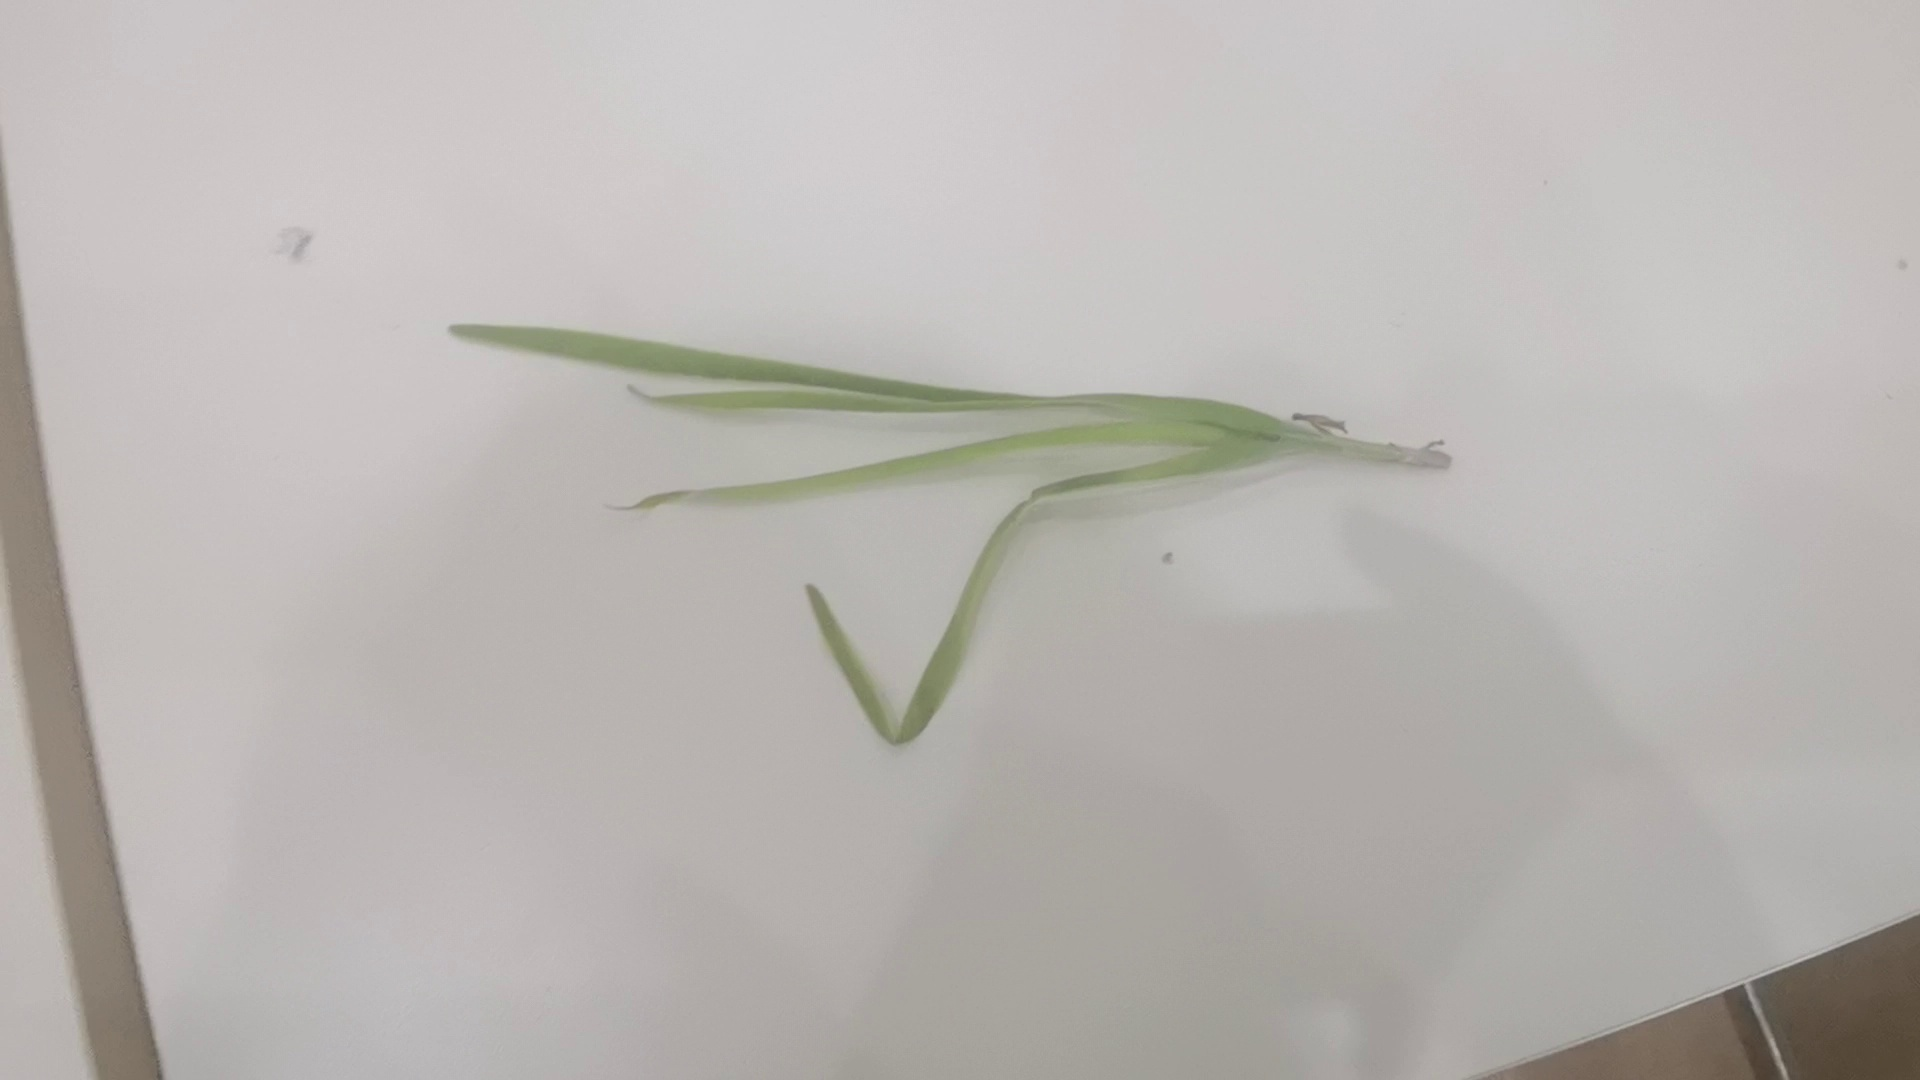chives: (444, 320, 1456, 740)
